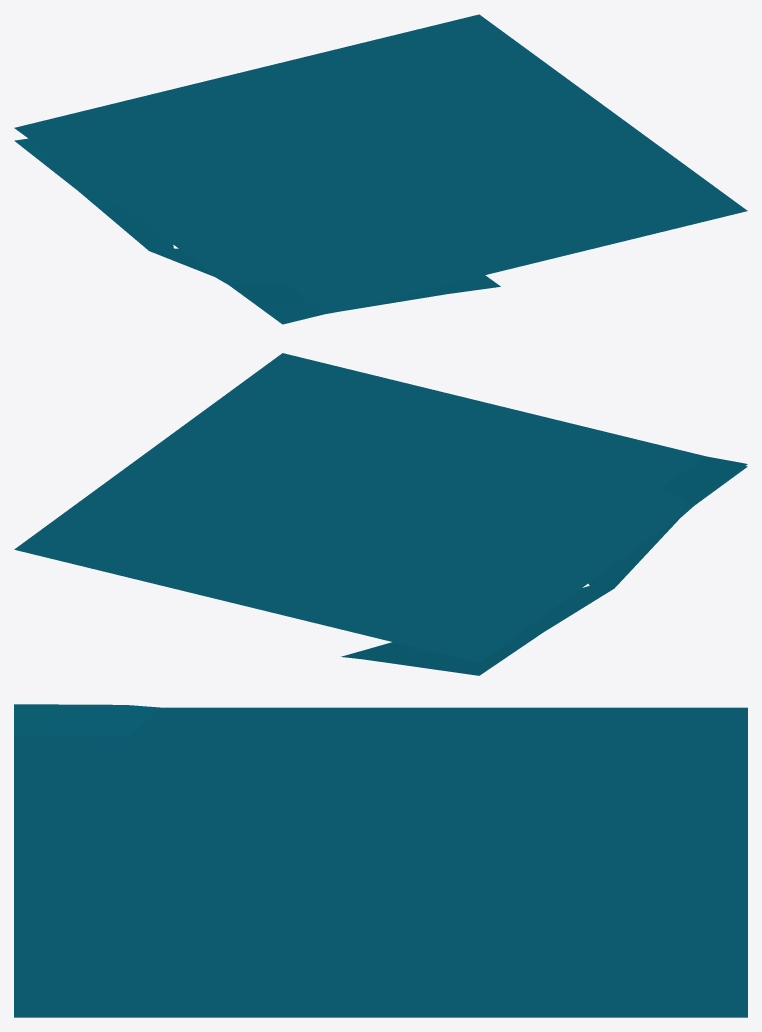
3 views of the same model, one above another, from view 1: azimuth 30°, elevation 25°; view 2: azimuth 150°, elevation 25°; view 3: azimuth 270°, elevation 25° (orthographic). The views are drawn at different scales.
Parts seen in each view (by area): view 1: G:\FFXIV-MapTools\exports\s1f3\bg\ffxiv\sea_s1\fld\s1f3\bgpl (×2); view 2: G:\FFXIV-MapTools\exports\s1f3\bg\ffxiv\sea_s1\fld\s1f3\bgpl (×2); view 3: G:\FFXIV-MapTools\exports\s1f3\bg\ffxiv\sea_s1\fld\s1f3\bgpl (×2).
Part boxes in pixels (x1,y1,x2,y2): G:\FFXIV-MapTools\exports\s1f3\bg\ffxiv\sea_s1\fld\s1f3\bgpl (×2): [14, 14, 747, 324]; G:\FFXIV-MapTools\exports\s1f3\bg\ffxiv\sea_s1\fld\s1f3\bgpl (×2): [14, 353, 747, 675]; G:\FFXIV-MapTools\exports\s1f3\bg\ffxiv\sea_s1\fld\s1f3\bgpl (×2): [14, 704, 747, 1017].
Size of the model in its own units: 128 by 7.89 by 128.
